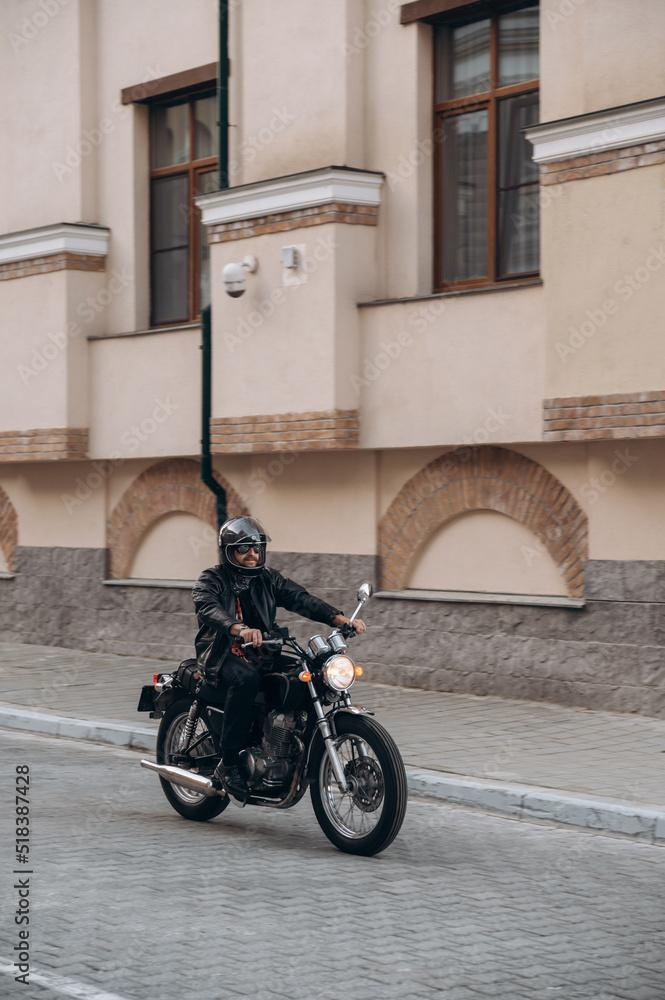helmet: (217, 514, 273, 578)
